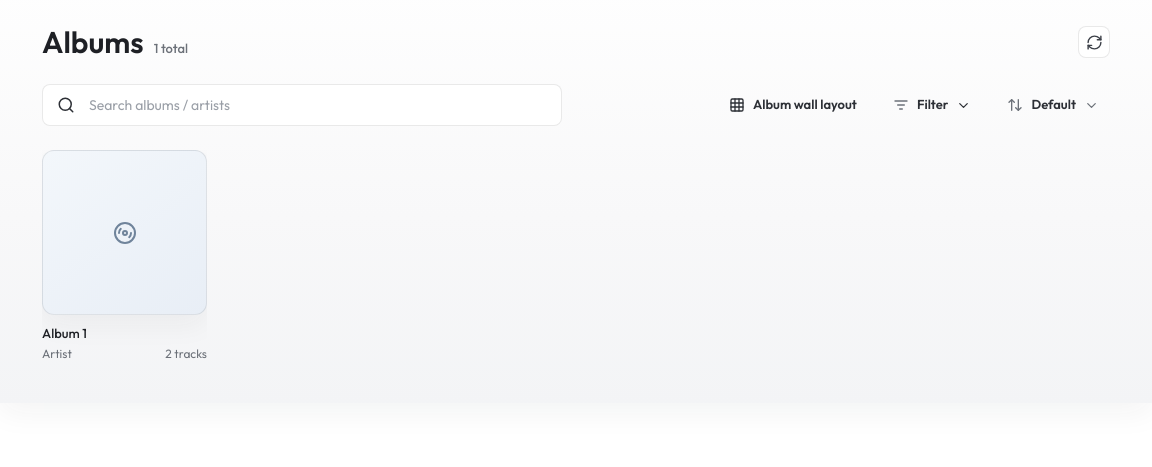
Scenario: AlbumsPage › copies an album track list from the copy submenu
The image size is (1152, 467).
Right-click the text "Album 1" at (64, 333), box [42,325,87,341]
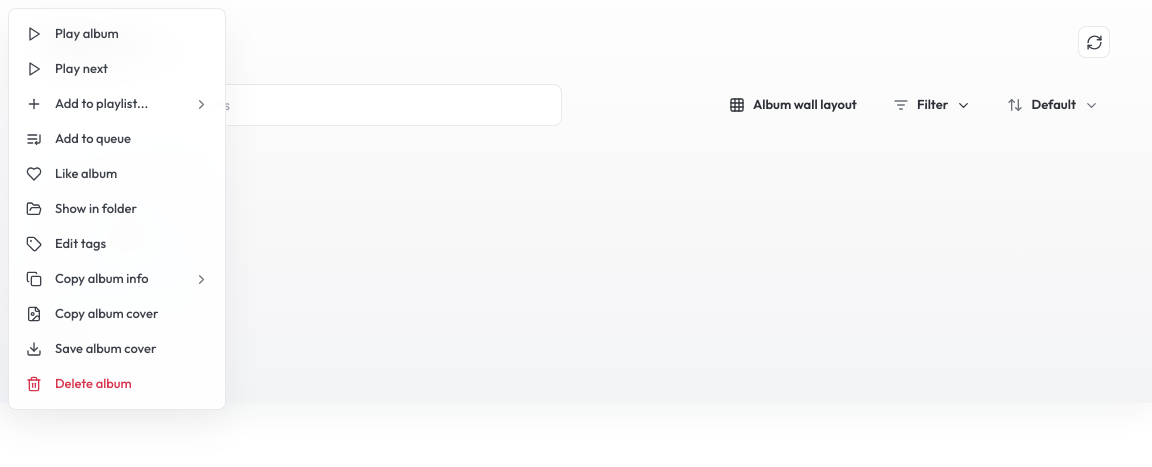
Hover over the menu item "Copy album info" at (117, 279), box [17,262,217,296]
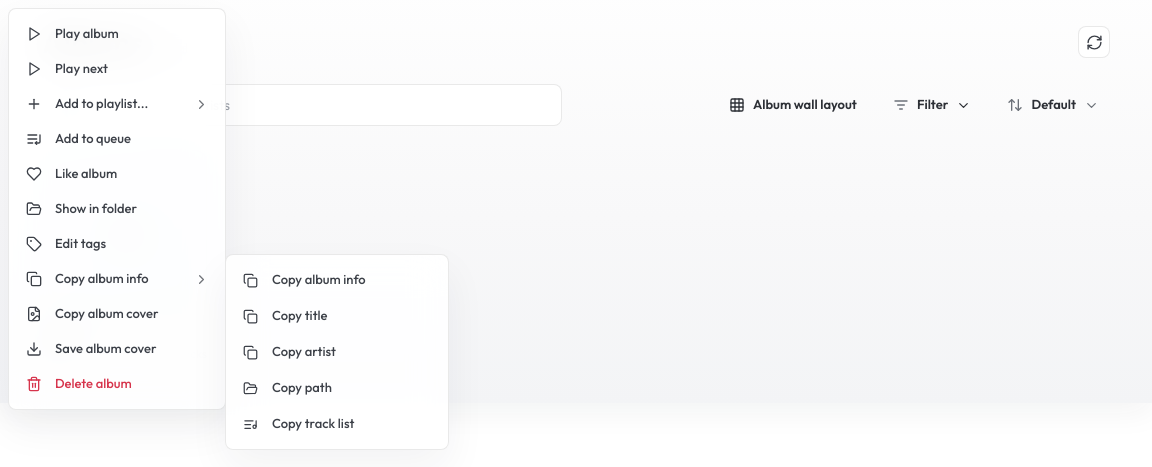
Click the menu item "Copy track list" at (337, 424), box [234,407,440,441]
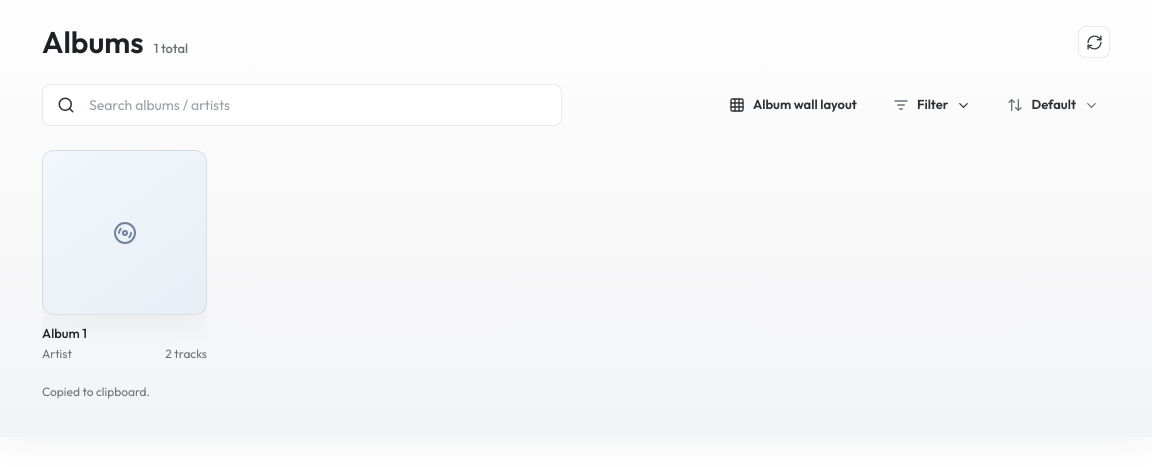
Result: the text "Copied to clipboard." is shown at [42,384,150,400]
